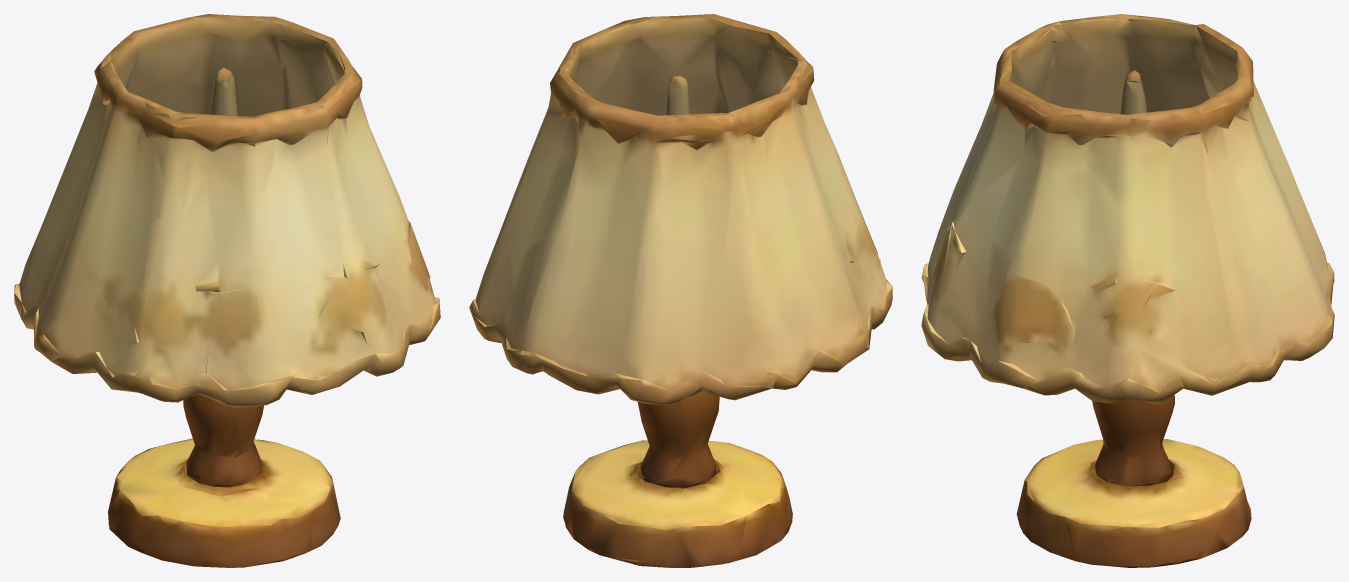
The model's file is deco11.glb.
The picture shows the model from 3 angles, left to right: view 1: azimuth 30°, elevation 25°; view 2: azimuth 150°, elevation 25°; view 3: azimuth 270°, elevation 25°; orthographic projection.
Size of the model in its own units: 0.1993 by 0.2335 by 0.1922.
1 material, 1 textured.
